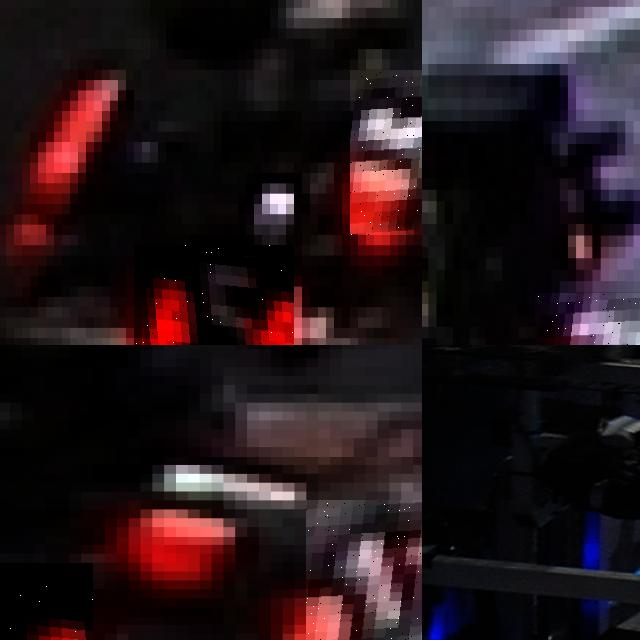R1: (129, 438, 318, 554), (306, 500, 422, 640), (0, 562, 93, 640)
R3: (535, 292, 640, 345)
R5: (134, 245, 294, 345), (350, 70, 422, 235)
